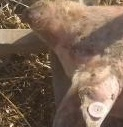text: (85, 97, 112, 125)
